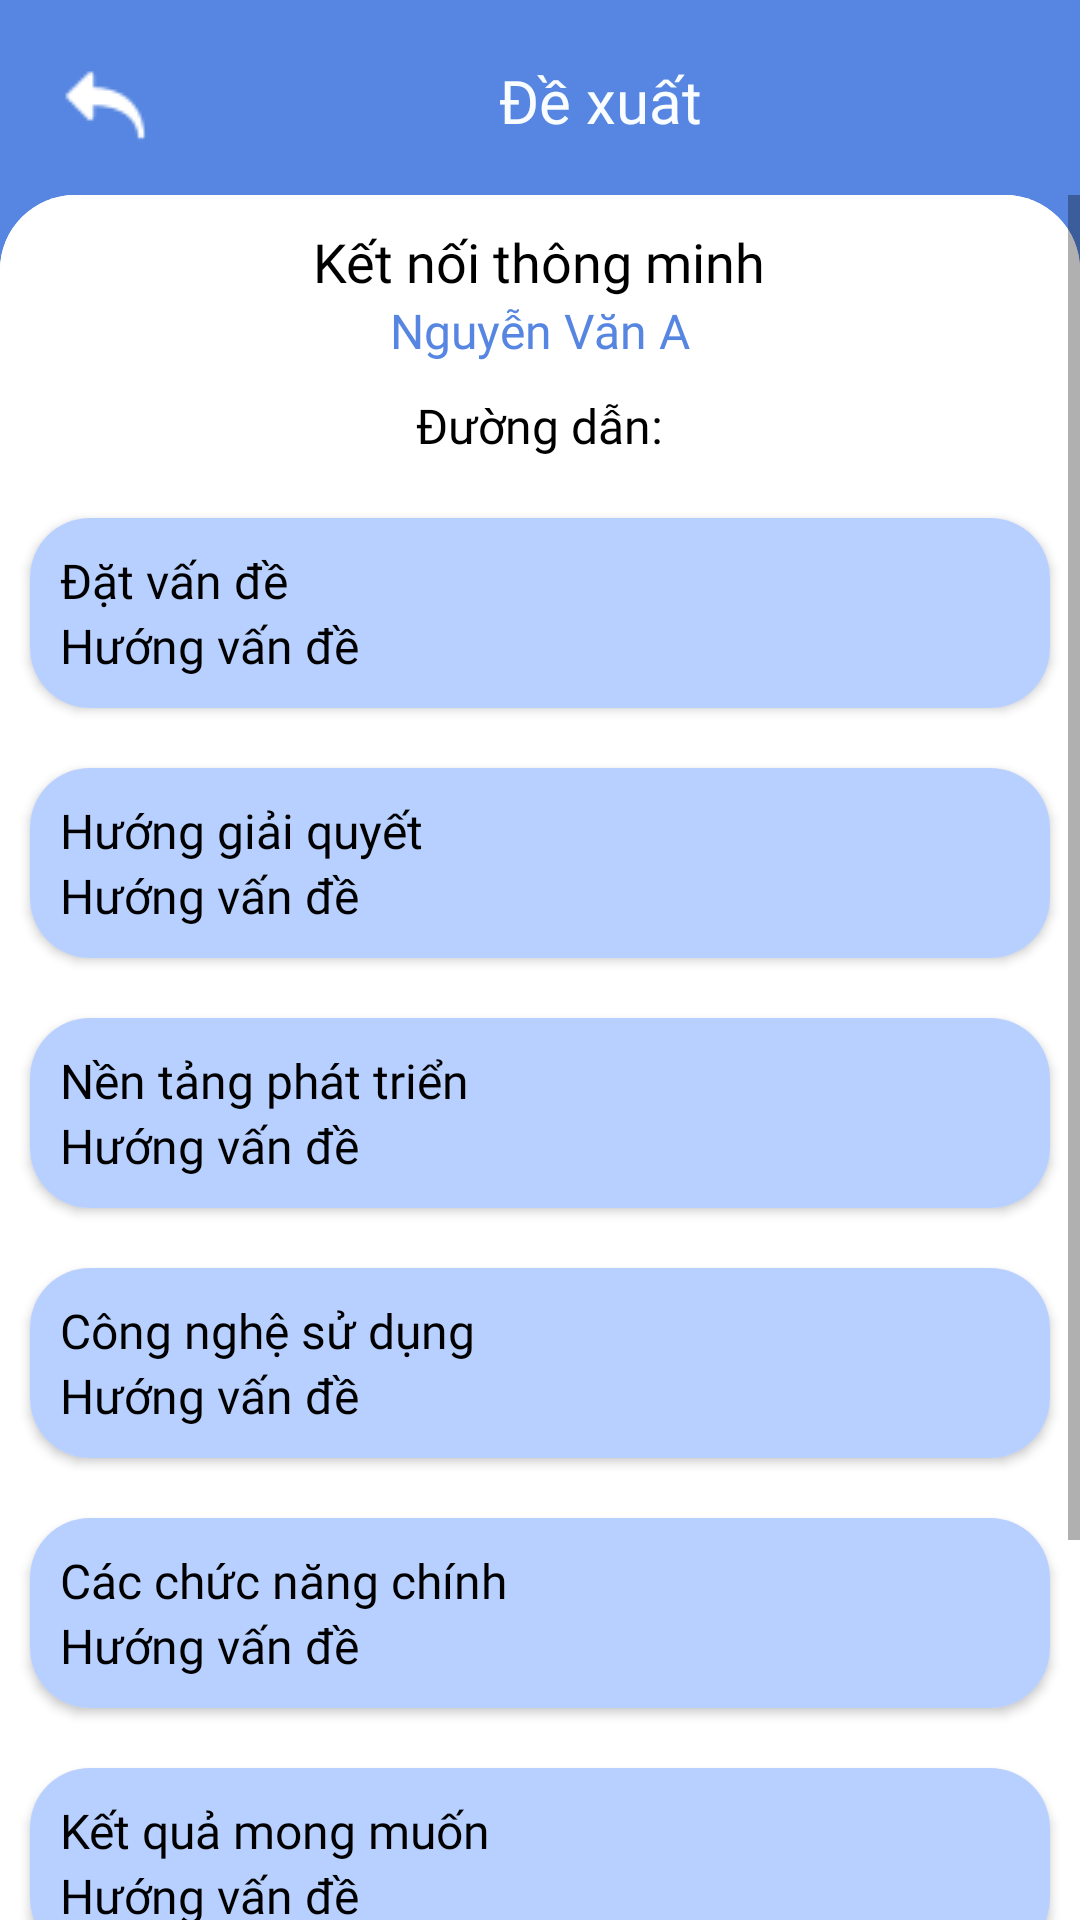

Icons on this 1080×1920 Android screen, each with its box as (x1, y1, x2, y2):
backarrow: (65, 71, 145, 139)
